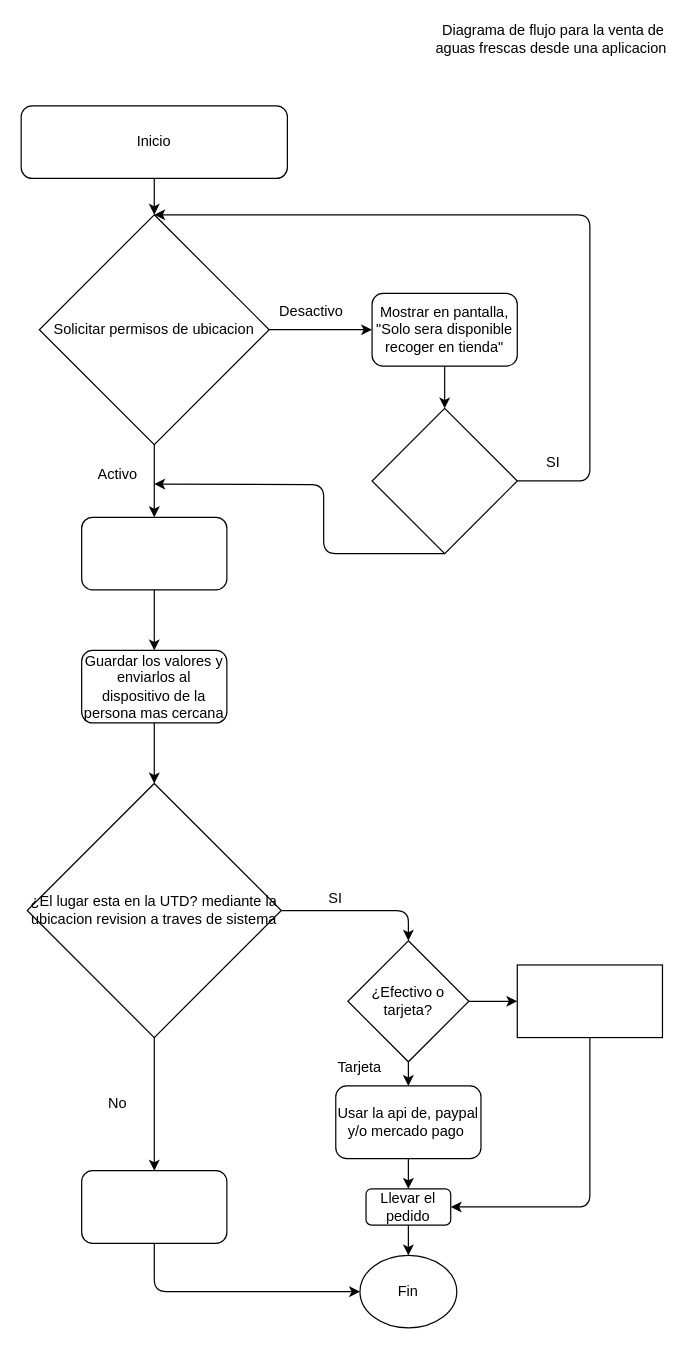
Some shapes in this 696 by 1349 pixel diagram are drawn without their labels. The centre of each missing label's shape, as x and y in pixels:
Desplegar el menu en pantalla: the point at 153,553
Enviar la solicitud a Rappi.: the point at 153,1206
Llevar el cambio exacto: the point at 589,1001
¿Desea reactivar la ubicacion?: the point at 444,480
